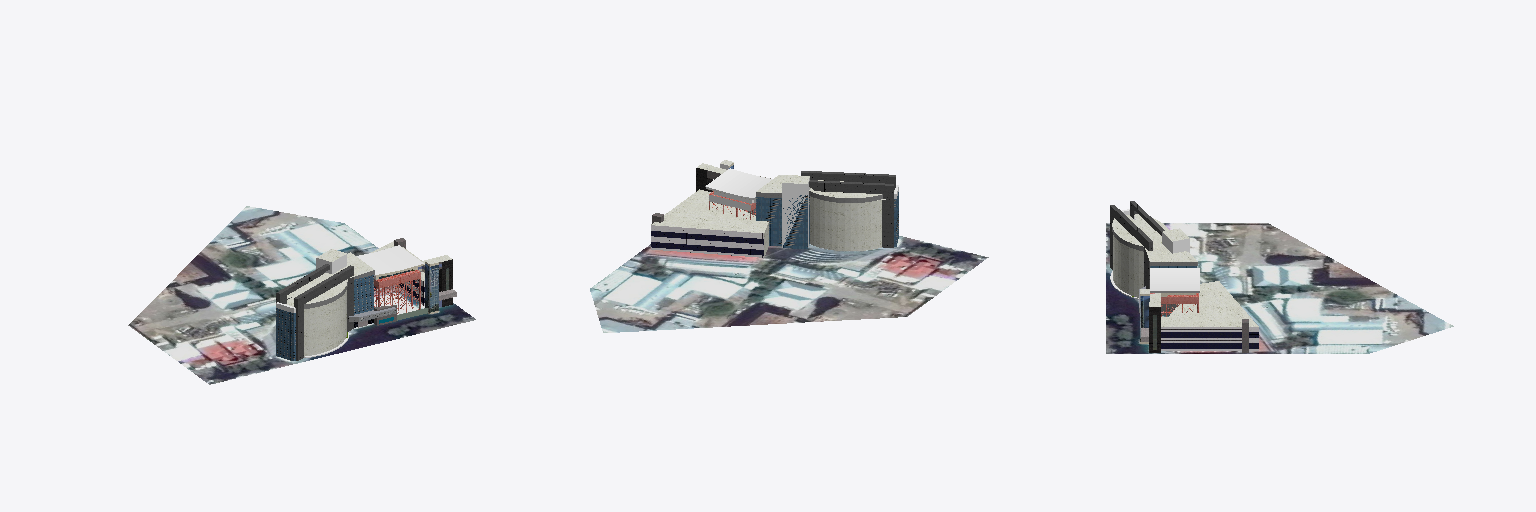
3 views of the same model, side by side, from view 1: azimuth 30°, elevation 25°; view 2: azimuth 150°, elevation 25°; view 3: azimuth 270°, elevation 25° (orthographic).
Parts seen in each view (by area): view 1: Mesh1_Group1_Model, Mesh2_Model; view 2: Mesh1_Group1_Model, Mesh2_Model; view 3: Mesh1_Group1_Model, Mesh2_Model.
Boxes of the visible parts, x1,y1,x2,y2 form: Mesh1_Group1_Model: [128, 206, 475, 384]; Mesh2_Model: [276, 238, 456, 360]; Mesh1_Group1_Model: [590, 209, 988, 332]; Mesh2_Model: [651, 160, 898, 257]; Mesh1_Group1_Model: [1106, 223, 1453, 353]; Mesh2_Model: [1110, 201, 1258, 352].
Bounding box in the file's own units: 126 × 29.43 × 142.
Materials: 37 (31 with a texture image).